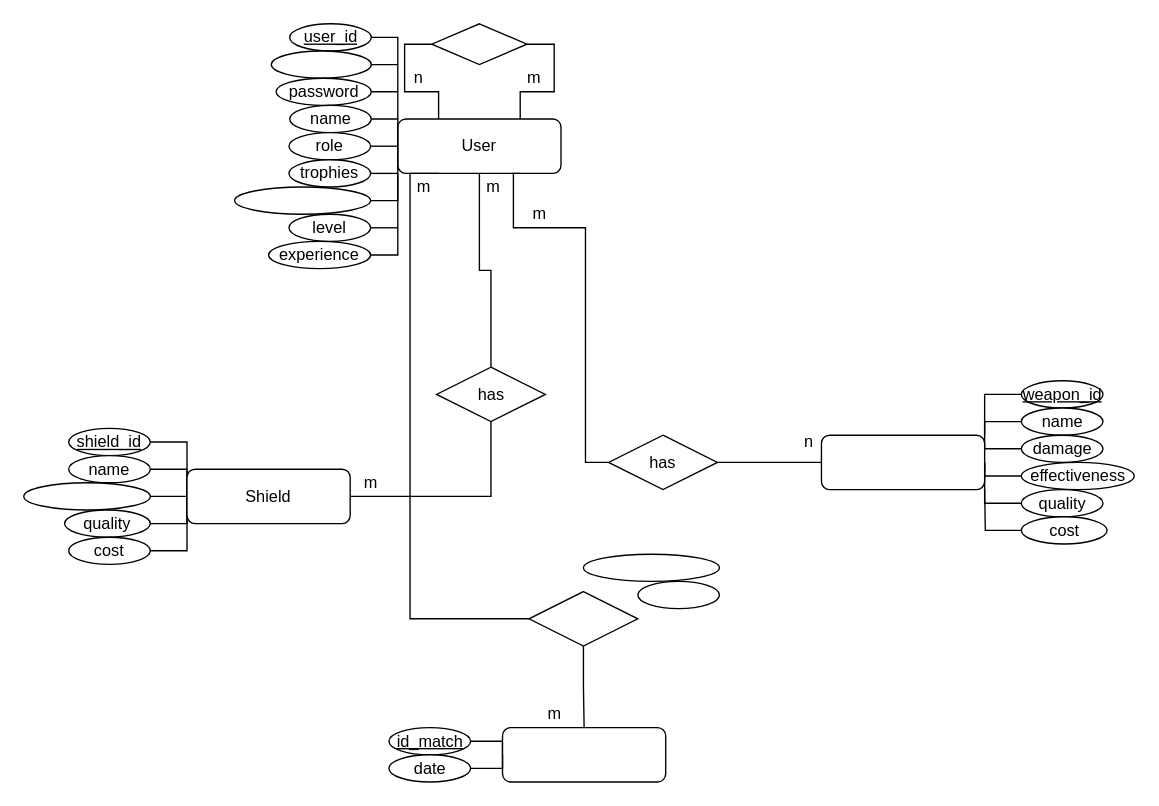
The diagram is 1159 pixels wide and 806 high, and some of its shapes have lost their labels. The box of each missing label's shape, as (x1, y1, x2, y2) in pixels:
friend: (430, 22, 527, 65)
highest_trophies: (233, 186, 371, 214)
mail: (270, 50, 371, 78)
Match: (501, 726, 666, 782)
plays: (528, 590, 638, 646)
points_defense: (22, 481, 150, 510)
rounds_winned: (582, 553, 719, 581)
Weapon: (820, 434, 985, 490)
winned: (636, 580, 719, 609)
